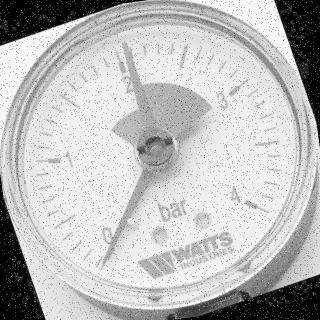gauge: (0, 0, 320, 320), (130, 122, 183, 174), (92, 220, 132, 262), (228, 180, 266, 223), (96, 252, 113, 269), (118, 37, 134, 54)
